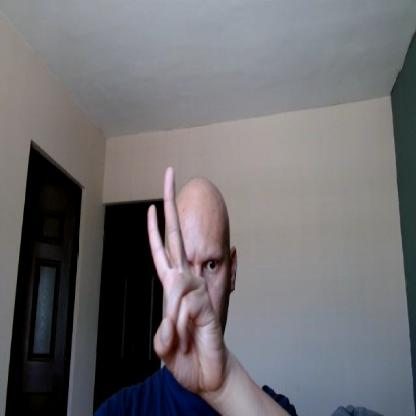V: (146, 165, 225, 394)
